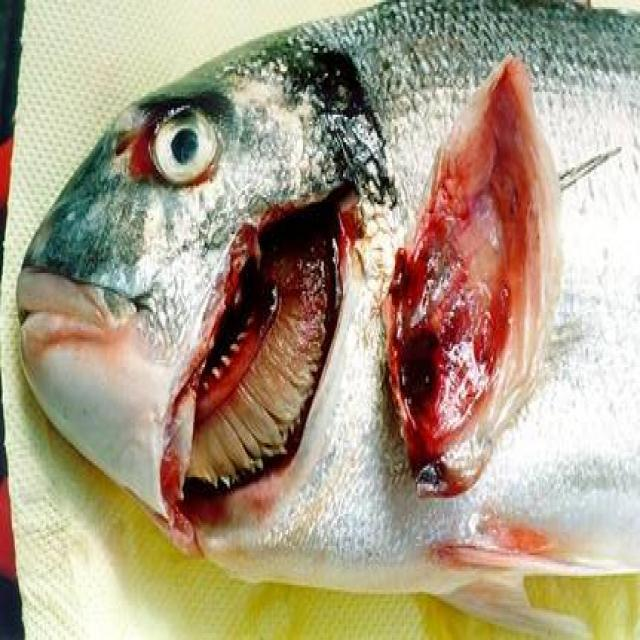EUS Disease: (19, 0, 640, 551), (159, 37, 577, 593)
